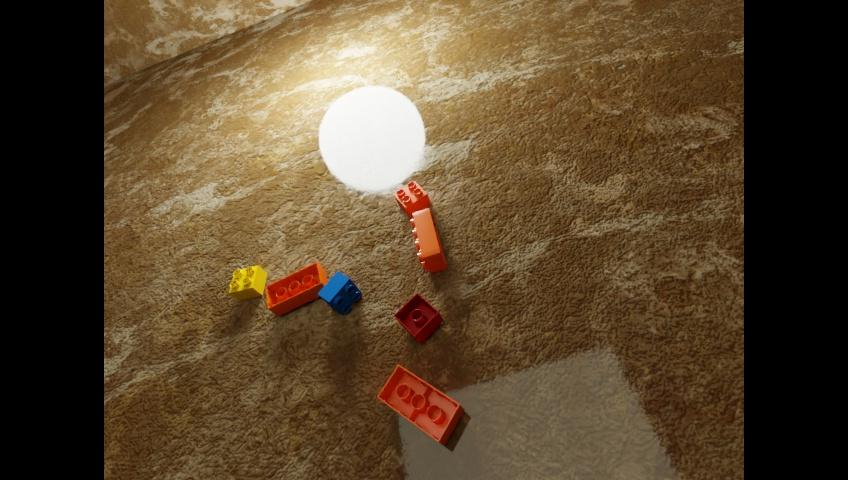2x2_blue: (318, 270, 360, 315)
2x2_orange: (393, 180, 430, 217)
2x2_red: (393, 292, 442, 343)
2x2_yellow: (229, 264, 266, 300)
4x2_orange: (377, 364, 463, 445), (266, 261, 327, 316), (410, 207, 446, 273)
